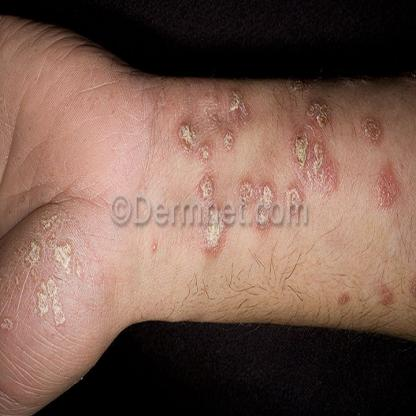Psoriasis: (173, 79, 352, 190), (2, 209, 93, 351)
